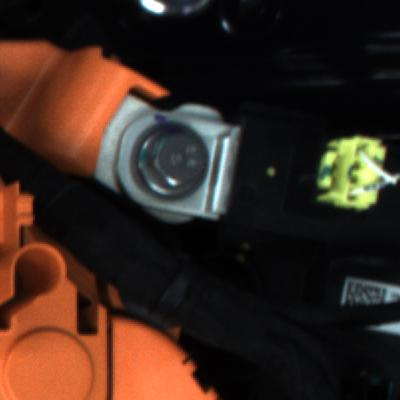nut_b: (124, 121, 217, 207)
